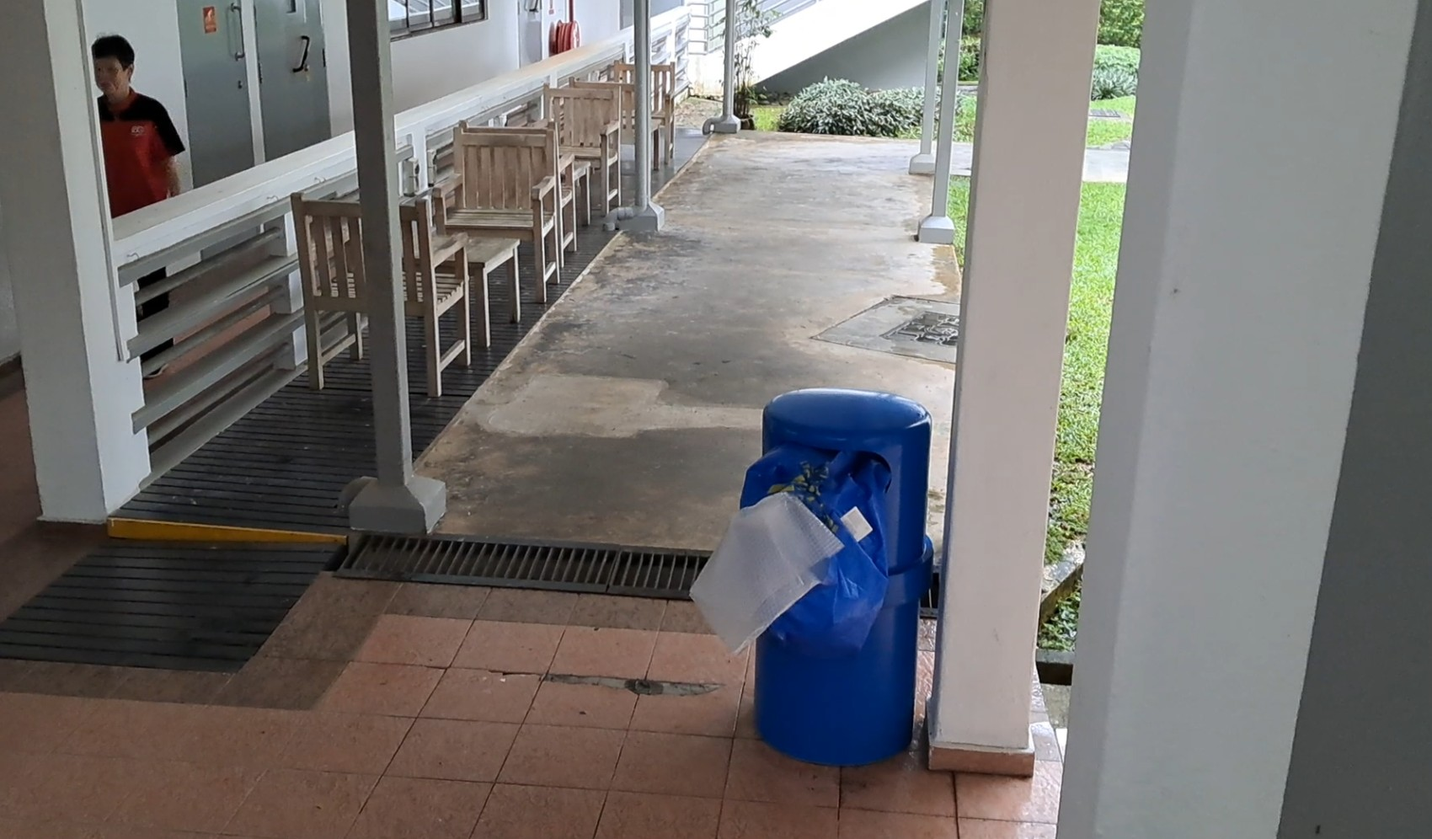bin_full: (692, 389, 932, 766)
